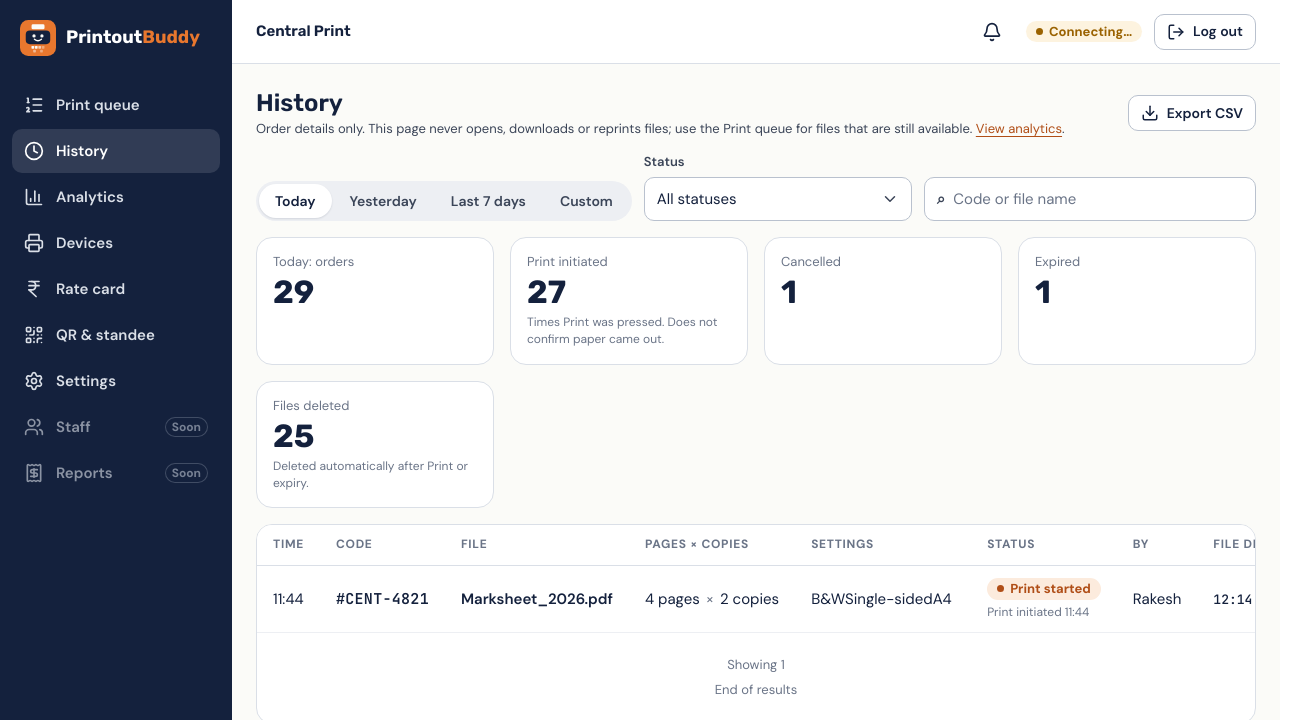
Test case: history page › switches date presets and requests the matching IST range
Expected: the row with test id "history-row" is shown, [257,566,1255,632]
Click the radio button labelled "Yesterday" at (383, 201), box [350,192,417,210]
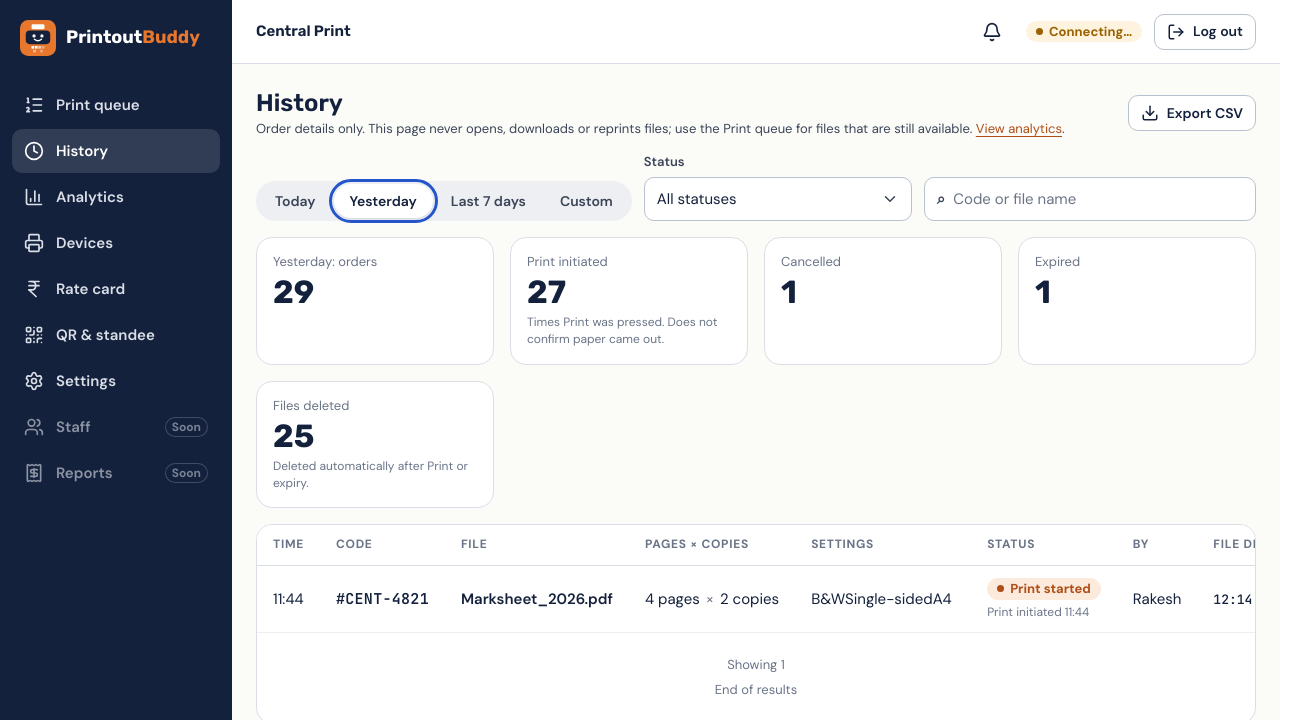
Click the radio button labelled "Last 7 days" at (488, 201), box [451,192,526,210]
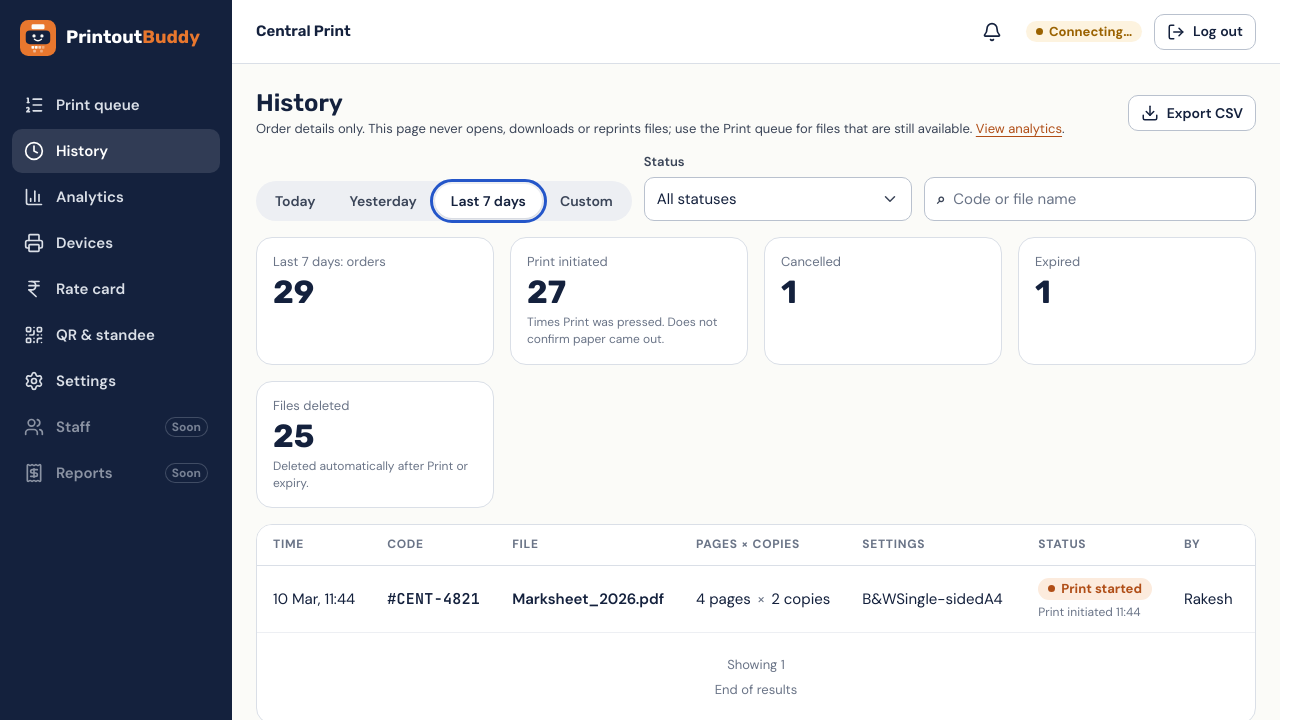
Expected: the table named "Last 7 days" is shown, [257,525,1255,632]
Expected: the text "10 Mar, 11:44" is shown, [273,589,355,609]
